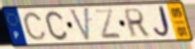C: (44, 10, 69, 42), (22, 12, 48, 42)
J: (152, 4, 173, 41)
R: (123, 7, 151, 39)
V: (68, 6, 91, 44)
Z: (93, 8, 124, 40)
